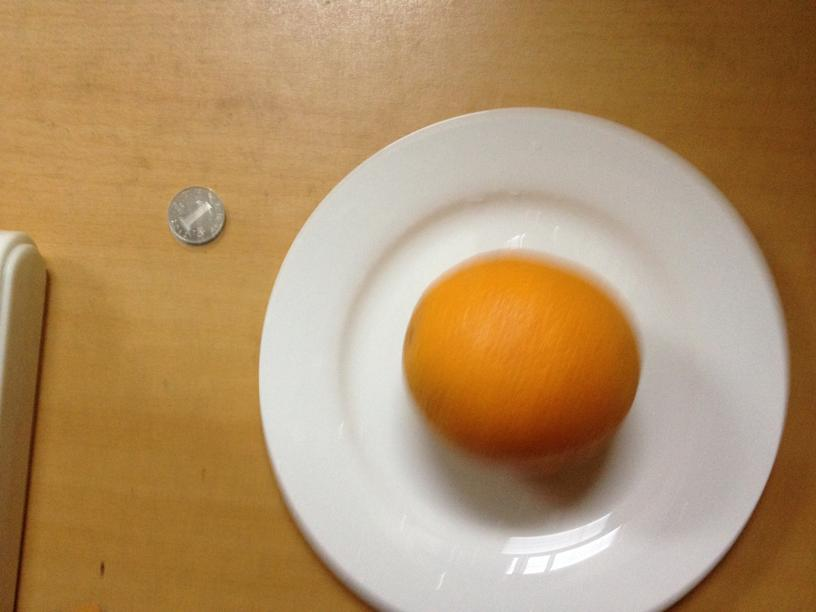coin: (165, 184, 225, 245)
orange: (401, 255, 643, 463)
